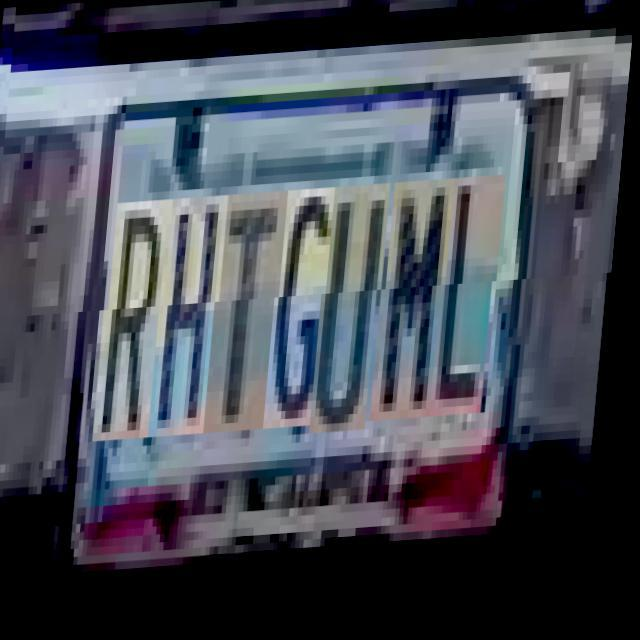G: (276, 192, 348, 434)
H: (160, 199, 232, 440)
L: (442, 183, 509, 424)
M: (382, 186, 458, 427)
R: (105, 202, 177, 443)
T: (216, 196, 292, 437)
U: (322, 190, 395, 439)
